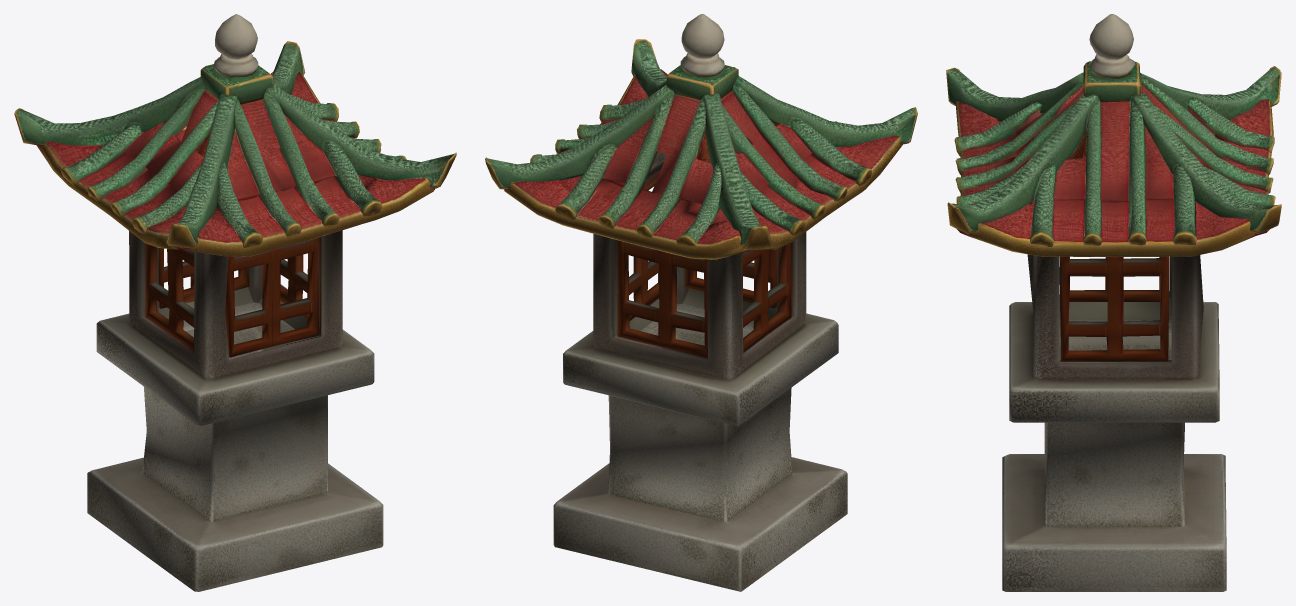
Rendered from tripo_convert_321b5be8-1311-4e65-97e1-2df70eba261d.fbx.
The picture shows the model from 3 angles, left to right: view 1: azimuth 30°, elevation 25°; view 2: azimuth 150°, elevation 25°; view 3: azimuth 270°, elevation 25°; orthographic projection. The views are drawn at different scales.
Visible parts, largest first — view 1: tripo_node_321b5be8; view 2: tripo_node_321b5be8; view 3: tripo_node_321b5be8.
Boxes of the visible parts, <box> form: tripo_node_321b5be8: <box>14,14,456,591</box>; tripo_node_321b5be8: <box>485,14,917,591</box>; tripo_node_321b5be8: <box>946,14,1281,591</box>.
Size of the model in its own units: 0.5801 by 0.998 by 0.5723.
1 material, 1 textured.
